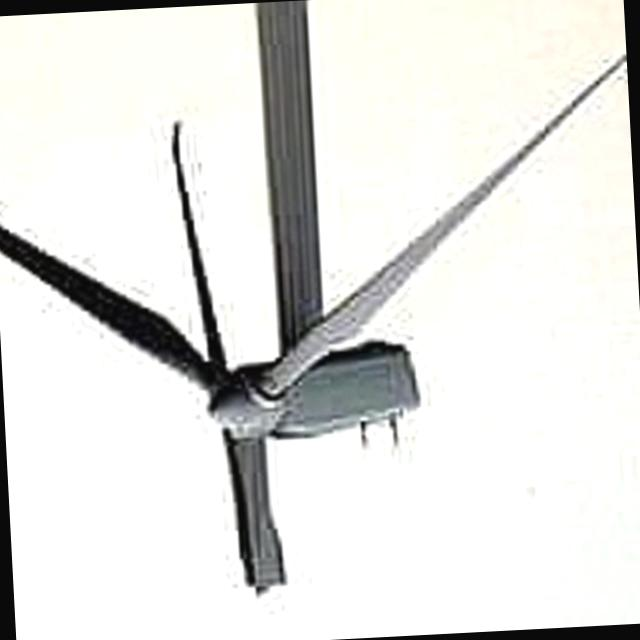crack: (152, 102, 299, 608)
